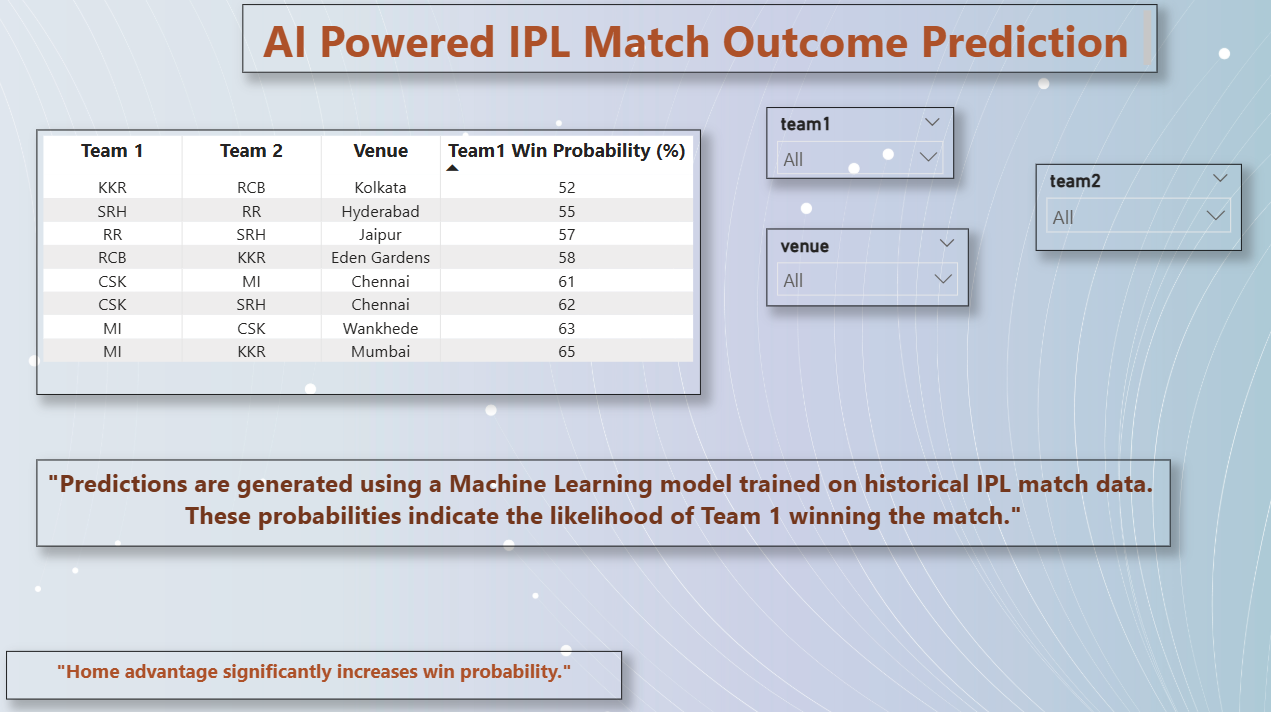

What the dashboard file says about the page in this screenshot:
{"tool":"powerbi","page":{"name":"Match Prediction","canvas":[1280,720],"ordinal":2},"visuals":[{"type":"textbox","box":[467.2,21.1,494.9,67.3],"z":0},{"type":"slicer","fields":{"Values":["silver_matches.team1"]},"box":[765.9,114.1,184.7,70.6],"z":2},{"type":"slicer","fields":{"Values":["silver_matches.team2"]},"box":[992.7,114.1,202.7,85.6],"z":3},{"type":"slicer","fields":{"Values":["silver_matches.venue"]},"box":[962.7,228.3,198.2,76.6],"z":4},{"type":"tableEx","fields":{"Values":["Table.Team 1","Table.Team 2","Table.Venue","Sum(Table.Win%)"]},"box":[46.6,136.7,635.3,270.3],"z":5},{"type":"textbox","box":[60.1,425,1118.9,85.6],"z":6},{"type":"textbox","box":[46.6,563.2,606.7,48.1],"z":7}]}

Visuals, with their boxes in screenshot pixels (x1, y1, x2, y2), scaled from the page's 1280x720 canvas onto the 1271x712 screenshot:
textbox: {"left": 464, "top": 21, "right": 955, "bottom": 87}
slicer - silver_matches.team1: {"left": 761, "top": 113, "right": 944, "bottom": 183}
slicer - silver_matches.team2: {"left": 986, "top": 113, "right": 1187, "bottom": 197}
slicer - silver_matches.venue: {"left": 956, "top": 226, "right": 1153, "bottom": 302}
tableEx - Table.Team 1 x Table.Team 2: {"left": 46, "top": 135, "right": 677, "bottom": 402}
textbox: {"left": 60, "top": 420, "right": 1171, "bottom": 505}
textbox: {"left": 46, "top": 557, "right": 649, "bottom": 605}
